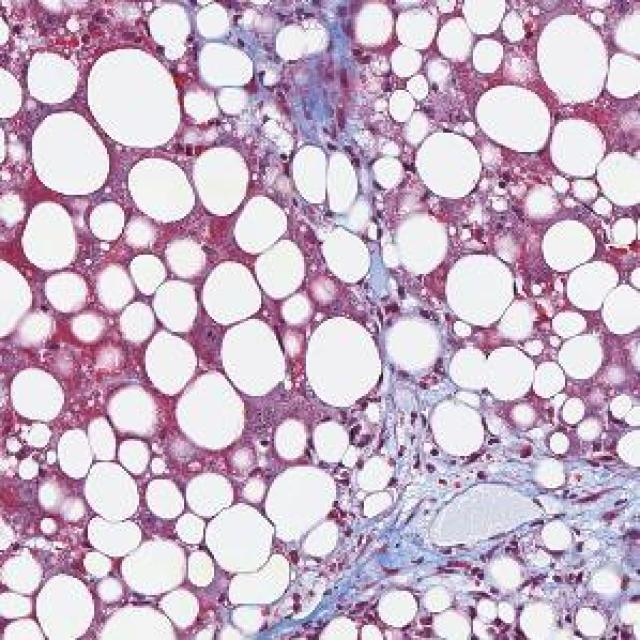fibrosis: (368, 452, 629, 593)
